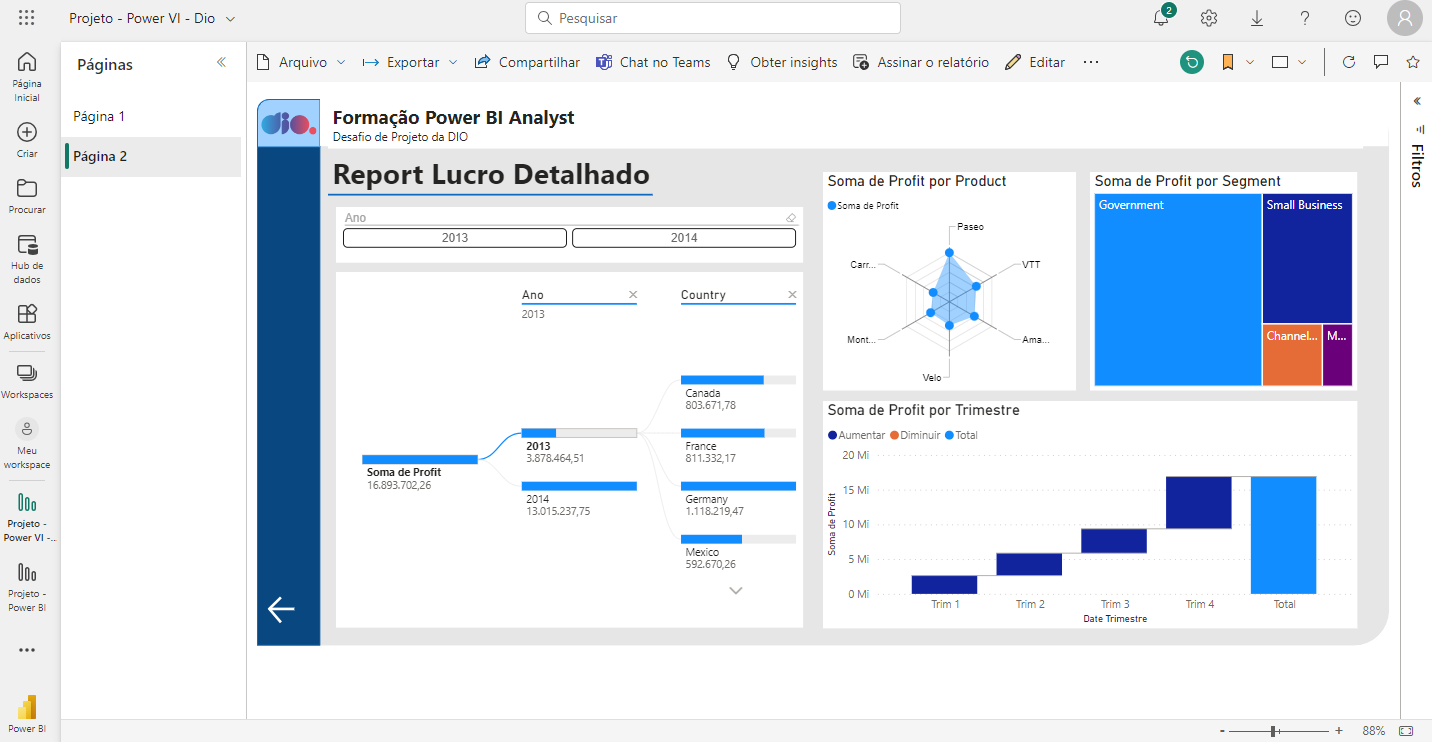

What the dashboard file says about the page in this screenshot:
{"tool":"powerbi","page":{"name":"Página 2","canvas":[1280,720],"ordinal":1},"visuals":[{"type":"shape","box":[0,18.8,1279.7,617.9],"z":0},{"type":"shape","box":[0,18.8,71.6,617.9],"z":1000},{"type":"shape","box":[0,18.8,71.6,54.6],"z":2000},{"type":"image","box":[0,18.8,71.6,54.6],"z":3000},{"type":"shape","box":[71.6,19.7,1208,53.7],"z":4000},{"type":"shape","box":[80,112.9,367.2,28.6],"z":5000,"group":"g1"},{"type":"textbox","box":[79.7,19.7,1169.5,55.5],"z":5000},{"type":"ChicletSlicer1448559807354","fields":{"Category":["financials.Date.Variation.Hierarquia de datas.Ano"]},"box":[89.5,141.5,528.4,62.7],"z":6000},{"type":"RadarChart1446119667547","fields":{"Category":["financials.Product"],"Y":["Sum(financials.Profit)"]},"box":[640.3,101.2,285.7,247.2],"z":7000},{"type":"decompositionTreeVisual","fields":{"Analyze":["Sum(financials.Profit)"],"ExplainBy":["financials.Date.Variation.Hierarquia de datas.Ano","financials.Country"]},"box":[89.5,214.9,528.4,402.1],"z":8000},{"type":"waterfallChart","fields":{"Category":["financials.Date.Variation.Hierarquia de datas.Trimestre"],"Y":["Sum(financials.Profit)"]},"box":[640.3,360,603.6,257],"z":9000},{"type":"treemap","fields":{"Group":["financials.Segment"],"Values":["Sum(financials.Profit)"]},"box":[942.1,101.2,301.8,247.2],"z":10000},{"type":"textbox","box":[79.7,75.2,442.4,66.3],"z":11000},{"type":"group","id":"g1","title":"Cartões","box":[80,112.9,367.2,28.6],"z":12000},{"type":"actionButton","box":[8.1,576.7,52.8,40.3],"z":13000}]}

Visuals, with their boxes on the page's 1280x720 design canvas (x1, y1, x2, y2). These are canvas units, not pixel positions in the 1432x742 screenshot, which may show the page scaled, cropped or inside an application window:
shape: (0, 19, 1280, 637)
shape: (0, 19, 72, 637)
shape: (0, 19, 72, 73)
image: (0, 19, 72, 73)
shape: (72, 20, 1280, 73)
shape: (80, 113, 447, 142)
textbox: (80, 20, 1249, 75)
ChicletSlicer1448559807354 - financials.Date.Variation.Hierarquia de datas.Ano: (90, 142, 618, 204)
RadarChart1446119667547 - financials.Product x Sum(financials.Profit): (640, 101, 926, 348)
decompositionTreeVisual - Sum(financials.Profit) x financials.Date.Variation.Hierarquia de datas.Ano: (90, 215, 618, 617)
waterfallChart - financials.Date.Variation.Hierarquia de datas.Trimestre x Sum(financials.Profit): (640, 360, 1244, 617)
treemap - financials.Segment x Sum(financials.Profit): (942, 101, 1244, 348)
textbox: (80, 75, 522, 142)
"Cartões" group: (80, 113, 447, 142)
actionButton: (8, 577, 61, 617)
